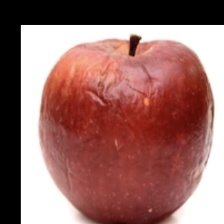apple: (14, 34, 201, 219)
